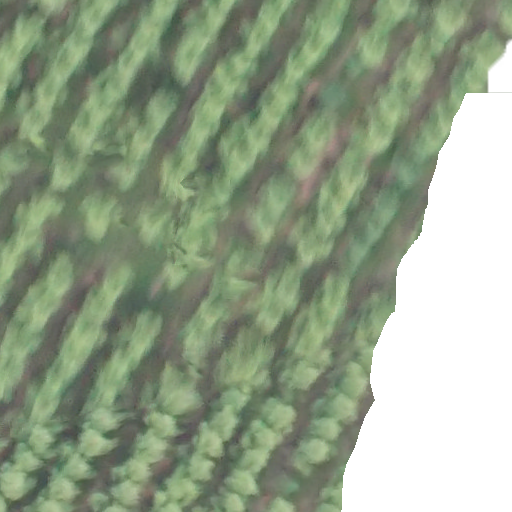eucalipto: (289, 214, 335, 265), (158, 361, 198, 419), (350, 104, 392, 157), (84, 66, 126, 114), (80, 191, 115, 239), (260, 390, 298, 433), (275, 359, 321, 394), (297, 109, 335, 150), (382, 63, 423, 101), (238, 110, 276, 151), (14, 101, 51, 143), (44, 253, 78, 296), (129, 430, 168, 467), (211, 60, 250, 97), (108, 454, 153, 486), (335, 357, 367, 402), (183, 449, 219, 488), (325, 171, 359, 212), (223, 133, 260, 170), (190, 425, 228, 461), (255, 87, 294, 122), (1, 463, 35, 503), (205, 399, 238, 440), (371, 90, 408, 126), (143, 86, 177, 125), (9, 17, 46, 52), (320, 390, 358, 424), (317, 195, 347, 238), (75, 423, 111, 458), (298, 436, 335, 470), (354, 32, 389, 67), (81, 288, 118, 321), (244, 419, 282, 451), (103, 159, 139, 192), (224, 466, 263, 496), (48, 153, 83, 186), (131, 305, 163, 341), (31, 74, 64, 108), (167, 471, 202, 503), (261, 178, 299, 207), (1, 144, 33, 178), (60, 34, 91, 69), (63, 453, 95, 486), (252, 301, 284, 334), (97, 264, 127, 299), (86, 403, 120, 433), (145, 412, 181, 440), (187, 111, 224, 138), (43, 475, 83, 499), (24, 424, 56, 453), (14, 439, 44, 469), (287, 151, 320, 178), (317, 82, 350, 109), (236, 447, 268, 474), (218, 385, 253, 409), (211, 488, 246, 512), (309, 416, 342, 441), (288, 452, 314, 483), (297, 30, 328, 56), (113, 481, 146, 505), (227, 48, 255, 75), (26, 1, 66, 17), (263, 496, 299, 512)
